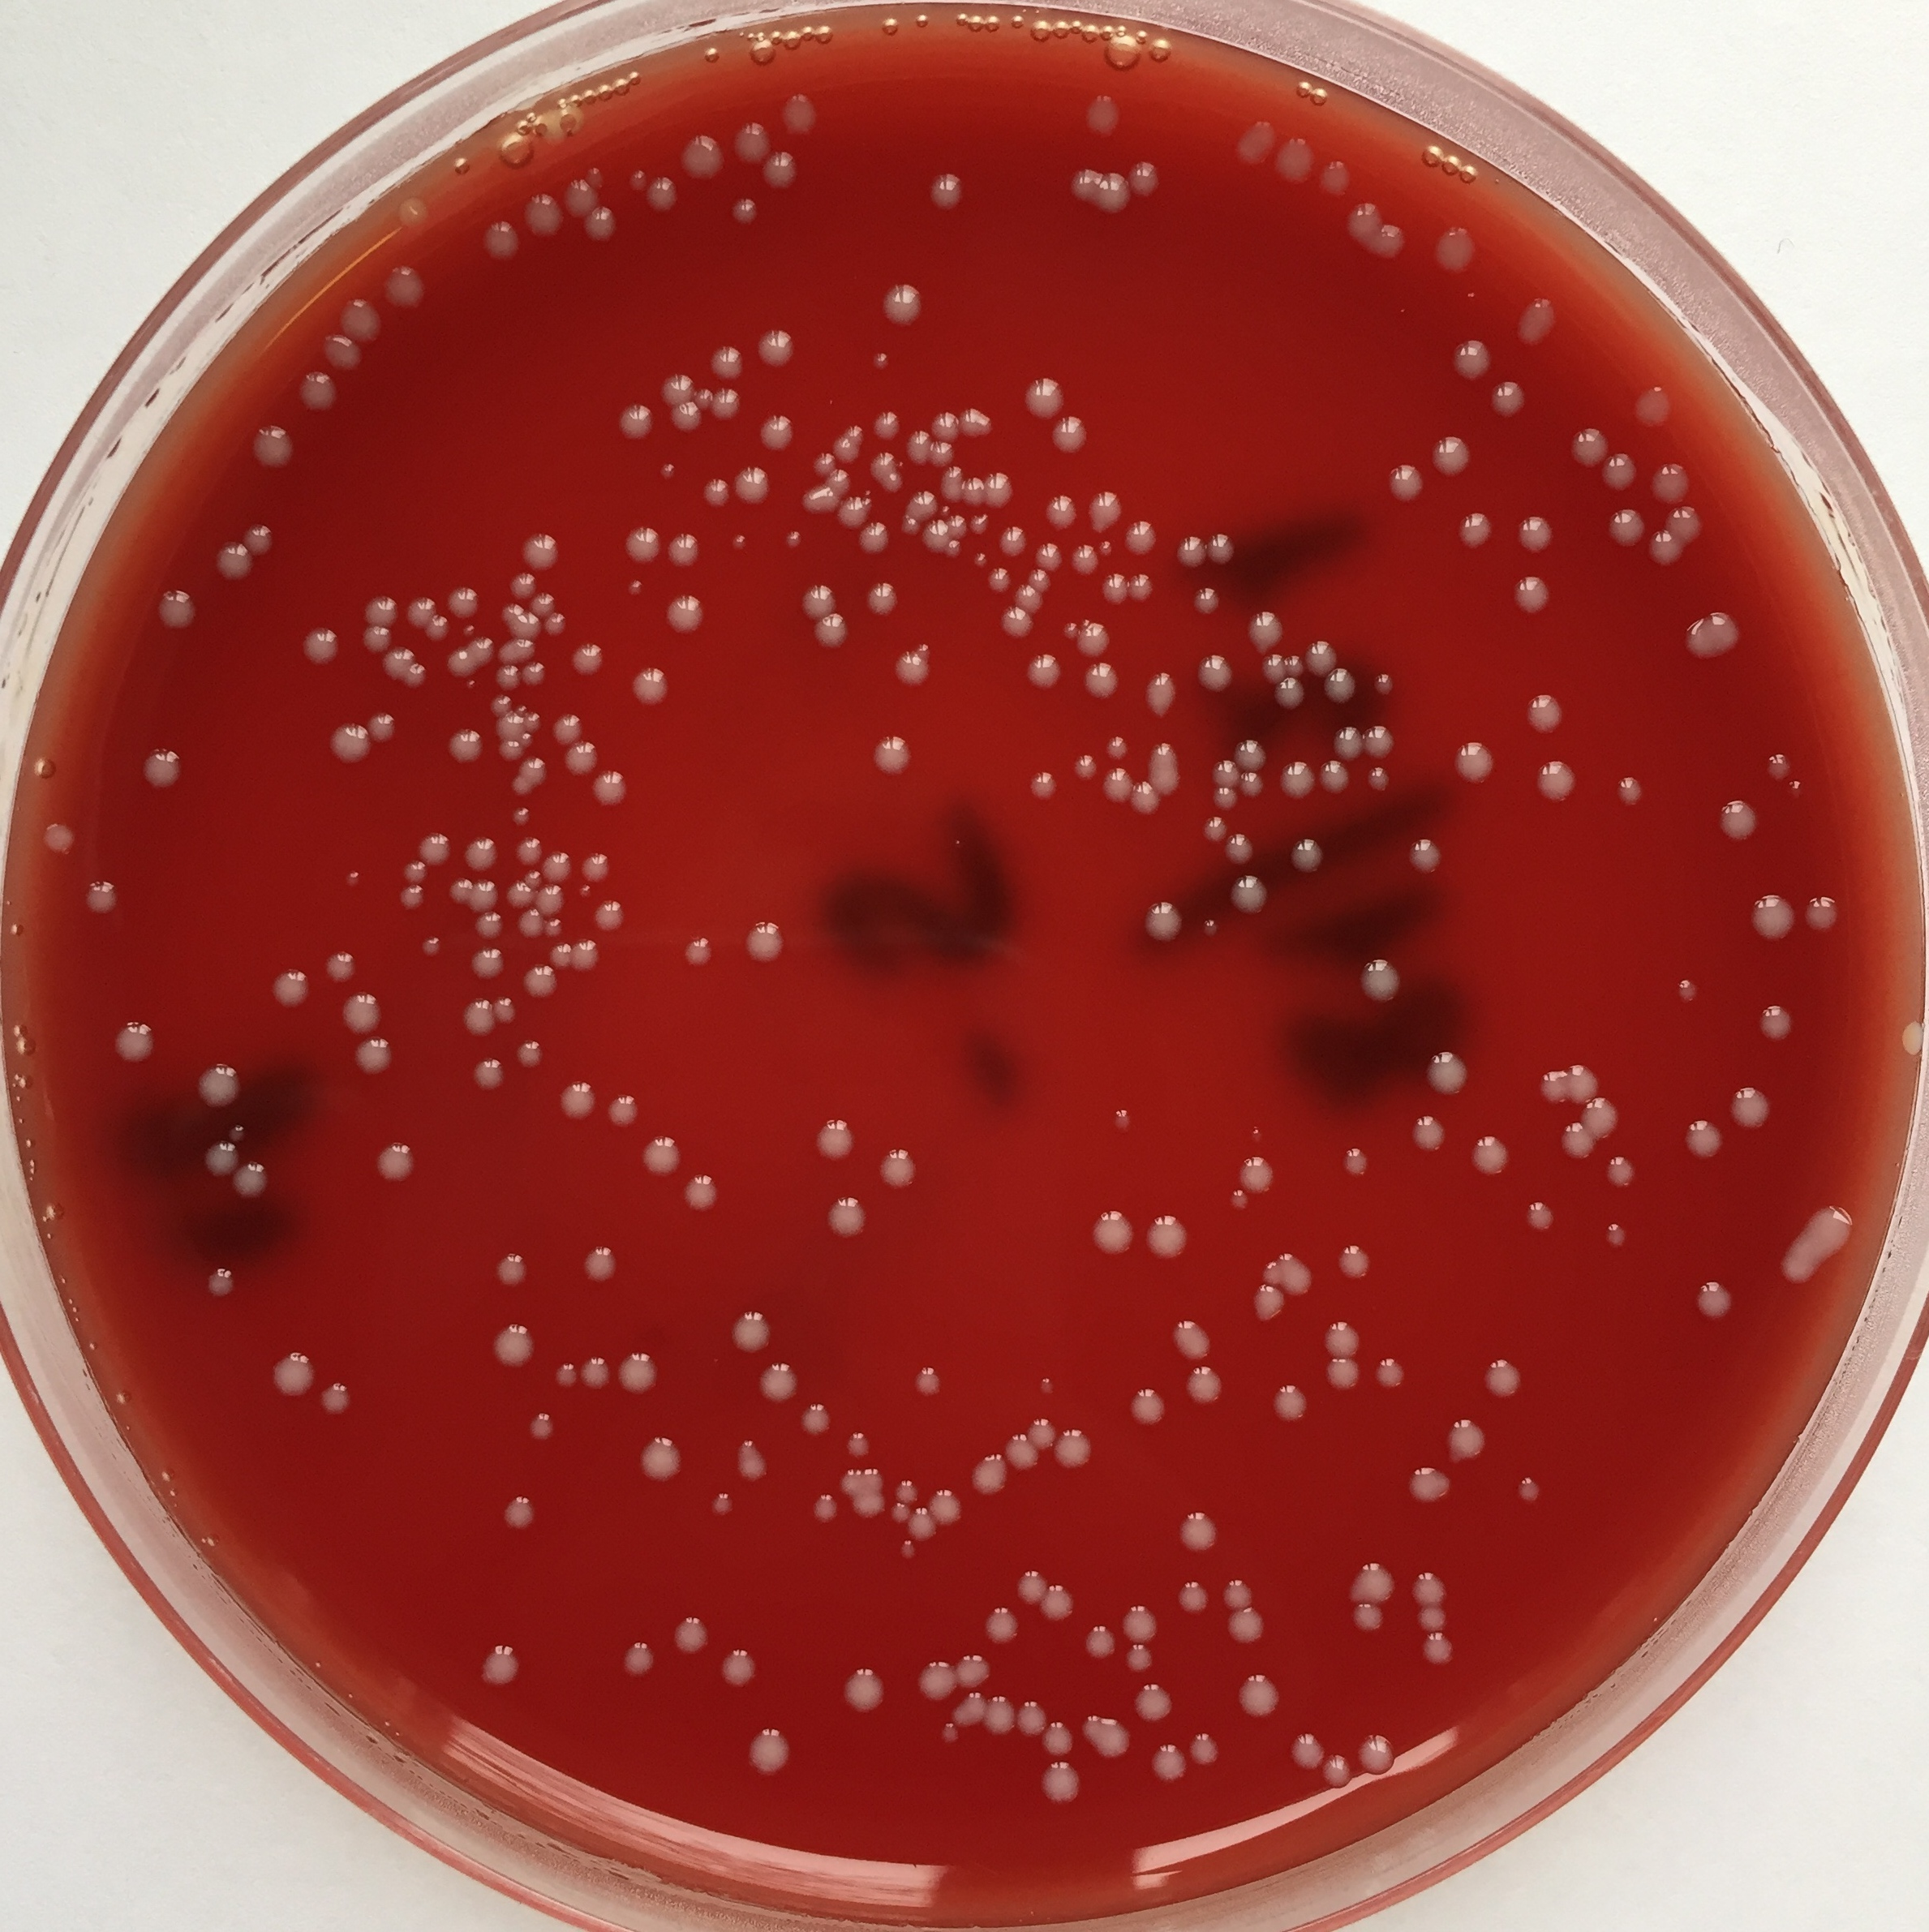sp22: (1772, 1199, 1850, 1302), (1669, 597, 1759, 671), (235, 408, 295, 491), (1600, 745, 1664, 816), (1749, 991, 1814, 1058), (1705, 782, 1765, 851), (1726, 1074, 1784, 1141), (631, 1423, 685, 1492), (1433, 221, 1491, 284), (1132, 895, 1191, 955), (1526, 752, 1581, 816), (864, 728, 917, 793), (869, 274, 934, 327), (1468, 1125, 1519, 1192), (1482, 1347, 1540, 1404), (475, 1634, 525, 1699), (1415, 1044, 1470, 1102), (569, 1229, 620, 1291), (1512, 687, 1570, 740), (1353, 947, 1404, 1007), (1745, 887, 1797, 947), (1229, 1667, 1288, 1718), (382, 254, 431, 314), (740, 1715, 786, 1778), (1173, 1508, 1228, 1561), (1143, 1206, 1187, 1272), (737, 913, 790, 966), (1235, 104, 1279, 168), (821, 1190, 873, 1245), (625, 657, 677, 710), (1169, 1305, 1212, 1369), (1634, 373, 1682, 429), (1083, 1702, 1129, 1761), (1141, 1736, 1187, 1794), (1450, 735, 1494, 795), (263, 1346, 313, 1399), (371, 1136, 420, 1189), (489, 1245, 539, 1298), (1265, 1379, 1314, 1432), (1404, 1464, 1457, 1513), (291, 371, 346, 419), (728, 1291, 768, 1355), (1090, 1199, 1134, 1257), (641, 1125, 684, 1185), (1401, 825, 1443, 885), (1798, 881, 1848, 932), (152, 581, 205, 629), (193, 1056, 240, 1109), (890, 634, 936, 689), (1033, 1757, 1079, 1812), (78, 869, 125, 920), (1516, 507, 1563, 558), (1076, 90, 1123, 141), (1358, 1724, 1401, 1780), (684, 125, 724, 184), (110, 1014, 155, 1065), (844, 1660, 889, 1713), (555, 1075, 594, 1136), (332, 992, 387, 1035), (617, 1337, 659, 1392), (1229, 872, 1272, 927), (1364, 1347, 1411, 1395), (754, 1356, 804, 1402), (1509, 572, 1558, 618), (1051, 408, 1101, 454), (334, 290, 378, 341), (138, 738, 182, 789), (267, 962, 311, 1014), (1175, 1369, 1226, 1413), (314, 1374, 355, 1429), (523, 189, 562, 245), (1687, 1275, 1735, 1321), (329, 717, 371, 768), (1337, 1137, 1380, 1189), (1251, 1282, 1293, 1333), (1521, 284, 1558, 343), (498, 1487, 539, 1540), (1125, 1379, 1166, 1432), (1408, 1107, 1449, 1160), (1570, 415, 1609, 470), (1275, 127, 1314, 182), (1021, 364, 1060, 419), (479, 214, 518, 268), (586, 205, 625, 260), (811, 613, 857, 659), (1132, 1678, 1178, 1724), (920, 164, 966, 210), (231, 1158, 276, 1206), (811, 1113, 855, 1160), (1318, 1305, 1362, 1353), (860, 569, 903, 618), (965, 1443, 1007, 1492), (668, 1605, 710, 1655), (1125, 157, 1162, 214), (447, 832, 498, 872), (717, 1642, 758, 1694), (1523, 1194, 1563, 1245), (1426, 427, 1466, 479), (756, 321, 797, 373), (1173, 1570, 1208, 1628), (1450, 332, 1489, 385), (320, 334, 364, 380), (491, 1319, 535, 1365), (1113, 1598, 1159, 1642), (1602, 1148, 1648, 1192), (1311, 154, 1357, 198), (662, 590, 708, 634), (1343, 1556, 1390, 1598), (1401, 1561, 1449, 1604), (735, 1432, 774, 1483), (878, 1141, 922, 1185), (1217, 1565, 1261, 1609), (1445, 1415, 1487, 1460), (1650, 457, 1692, 503), (783, 87, 823, 134), (443, 717, 482, 766), (1238, 1150, 1277, 1199), (1411, 1634, 1461, 1672), (1678, 1102, 1717, 1151), (1343, 198, 1381, 247), (1055, 1420, 1092, 1471), (1138, 668, 1175, 719), (1339, 1231, 1373, 1287), (1491, 380, 1532, 426), (929, 1485, 968, 1533), (1502, 1471, 1549, 1510), (1454, 510, 1493, 558), (682, 1173, 719, 1222), (320, 943, 362, 985), (466, 938, 509, 980), (950, 1646, 993, 1688), (1037, 1579, 1079, 1621), (1388, 447, 1420, 503), (733, 461, 775, 503), (1150, 736, 1182, 793), (1023, 1409, 1063, 1453), (1116, 1637, 1161, 1678), (1224, 1611, 1268, 1651), (1063, 164, 1104, 208), (797, 574, 836, 620), (1320, 1748, 1358, 1794), (1666, 975, 1712, 1014), (1671, 498, 1710, 544), (1085, 487, 1123, 533), (1551, 1120, 1588, 1167), (468, 1058, 511, 1098), (617, 523, 657, 565), (1185, 1722, 1219, 1773), (214, 540, 253, 585), (37, 812, 76, 857), (844, 1483, 883, 1528), (200, 1257, 237, 1303), (1290, 1725, 1327, 1771), (1600, 503, 1638, 549), (645, 177, 682, 223), (733, 113, 765, 166), (1323, 1355, 1357, 1404), (355, 1038, 397, 1077), (708, 339, 747, 381), (519, 528, 558, 570), (459, 987, 489, 1042), (1585, 1098, 1629, 1136), (666, 526, 703, 570), (1245, 606, 1282, 650), (1650, 532, 1683, 579), (1373, 219, 1411, 260), (613, 399, 652, 440), (1078, 1621, 1115, 1664), (753, 415, 795, 452), (1284, 825, 1321, 867), (417, 825, 452, 869), (1528, 1061, 1563, 1106), (1602, 452, 1638, 496), (763, 148, 798, 192), (548, 1347, 578, 1399), (579, 1346, 609, 1397), (1406, 1600, 1457, 1630), (956, 1690, 987, 1738), (200, 1137, 238, 1176), (560, 740, 599, 779), (579, 841, 618, 879), (518, 961, 556, 1000), (1021, 768, 1058, 809), (590, 770, 631, 807), (300, 625, 336, 668), (512, 1031, 548, 1074), (800, 1386, 828, 1439), (617, 1635, 652, 1678), (1171, 528, 1207, 570), (1277, 758, 1312, 800), (1000, 1423, 1032, 1469), (604, 1090, 641, 1128), (839, 1423, 878, 1460), (917, 1658, 954, 1697), (1556, 1061, 1595, 1098), (1194, 653, 1231, 692), (684, 932, 719, 973), (984, 1602, 1019, 1642), (1042, 491, 1078, 532), (466, 872, 496, 920), (904, 1505, 938, 1547), (1316, 758, 1350, 800), (1228, 826, 1260, 871), (564, 177, 592, 226), (1021, 650, 1058, 687), (1014, 1697, 1049, 1736), (1350, 1602, 1388, 1637), (1083, 657, 1116, 698), (1014, 1561, 1044, 1605), (1899, 1015, 1929, 1060), (1763, 738, 1798, 775), (722, 525, 758, 562), (394, 196, 431, 231), (571, 639, 606, 676), (836, 491, 873, 526), (1302, 638, 1335, 676), (1101, 166, 1129, 212), (367, 706, 399, 747), (447, 581, 479, 622), (1078, 616, 1109, 657), (1129, 781, 1161, 821), (466, 911, 509, 941), (887, 1464, 922, 1499), (1101, 763, 1129, 807), (728, 194, 760, 233), (1123, 519, 1155, 558), (488, 994, 518, 1035), (1194, 909, 1222, 952), (1281, 1254, 1316, 1287), (362, 592, 397, 625), (406, 590, 438, 627), (588, 895, 625, 927), (961, 403, 993, 440), (798, 482, 836, 514), (1207, 528, 1238, 565), (998, 608, 1030, 645), (1595, 1219, 1625, 1257), (700, 473, 730, 512), (851, 525, 890, 555), (1235, 736, 1268, 770), (1321, 669, 1355, 703), (247, 517, 279, 553), (707, 1489, 738, 1524), (496, 638, 539, 664), (929, 408, 965, 440), (873, 408, 908, 440), (669, 399, 700, 436), (714, 387, 744, 424), (869, 344, 897, 383), (906, 427, 934, 466), (987, 1694, 1014, 1734), (359, 625, 392, 657), (380, 650, 413, 682), (1270, 678, 1302, 712), (526, 1407, 556, 1443), (553, 710, 583, 745), (1189, 583, 1219, 618), (986, 472, 1014, 509), (809, 1491, 836, 1529), (1373, 666, 1399, 705), (1365, 724, 1397, 756), (913, 1363, 943, 1397), (659, 369, 692, 399), (537, 883, 567, 917), (394, 887, 429, 915), (1037, 1720, 1072, 1748), (507, 611, 542, 639), (509, 837, 544, 865), (1070, 540, 1099, 576), (1238, 768, 1267, 804), (1102, 570, 1127, 609), (394, 857, 426, 887), (1101, 1097, 1132, 1127), (546, 851, 578, 881), (1025, 1365, 1053, 1399), (774, 525, 802, 558), (995, 523, 1023, 556), (855, 1464, 890, 1491), (417, 618, 452, 645), (1127, 570, 1154, 606), (445, 871, 468, 911), (223, 1116, 253, 1146), (1196, 814, 1226, 844), (927, 1715, 959, 1743), (505, 569, 537, 597), (1334, 728, 1362, 759), (1237, 1116, 1272, 1141), (655, 452, 680, 487), (903, 491, 938, 516), (1219, 1185, 1249, 1213), (1258, 1256, 1286, 1286), (830, 1464, 862, 1491), (447, 646, 473, 678), (1017, 586, 1044, 618), (571, 941, 595, 975), (1260, 653, 1284, 687), (339, 855, 360, 894), (986, 567, 1014, 595), (519, 660, 544, 692), (505, 881, 537, 906), (922, 521, 947, 553), (1212, 756, 1237, 788), (1035, 542, 1063, 569), (1074, 752, 1095, 788), (1784, 770, 1809, 800), (493, 666, 518, 696), (408, 660, 433, 691), (836, 436, 860, 466), (473, 636, 495, 669), (549, 938, 571, 971), (942, 466, 963, 500), (493, 740, 521, 765), (526, 590, 556, 613), (525, 756, 548, 786), (518, 909, 541, 940), (1369, 766, 1392, 796), (509, 805, 541, 826), (929, 440, 954, 466), (1104, 733, 1127, 761), (618, 577, 648, 599), (627, 161, 648, 191), (963, 475, 984, 505), (883, 1499, 908, 1524), (830, 470, 855, 494), (867, 450, 892, 475), (1030, 569, 1055, 593), (542, 611, 569, 634), (881, 472, 904, 496), (1210, 786, 1235, 809), (896, 1535, 917, 1561), (496, 719, 525, 738), (489, 696, 512, 719), (417, 938, 442, 959), (505, 777, 530, 798), (694, 383, 710, 415), (541, 915, 562, 938), (814, 447, 836, 470), (945, 512, 968, 533), (586, 162, 606, 187), (1058, 618, 1076, 645), (843, 420, 862, 443), (525, 708, 541, 733), (972, 514, 987, 539), (1284, 650, 1300, 675), (498, 602, 523, 616), (525, 869, 542, 888), (519, 733, 541, 749), (463, 620, 480, 638), (1101, 539, 1115, 560), (903, 519, 920, 535), (945, 539, 961, 556), (968, 551, 986, 565), (511, 703, 526, 717), (938, 505, 952, 519), (578, 883, 594, 895), (465, 680, 477, 689)
